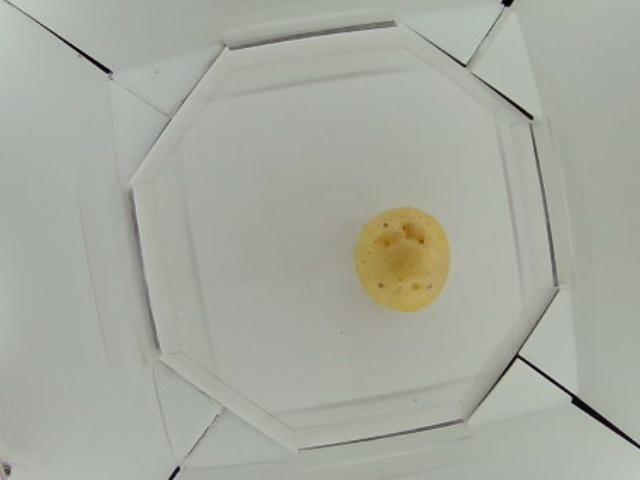Potato: (353, 204, 452, 313)
